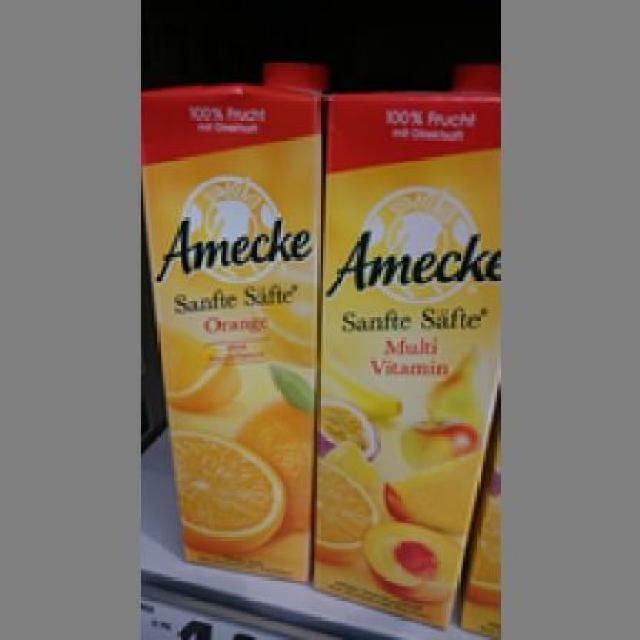Juice: (311, 65, 500, 626), (137, 66, 314, 580)
